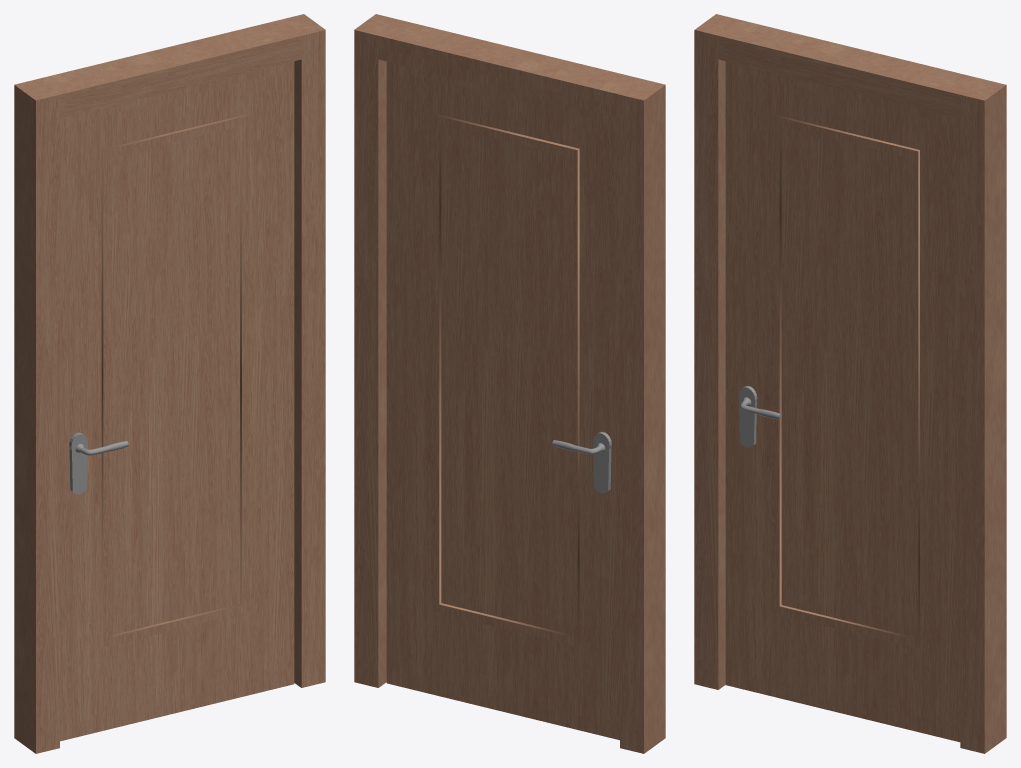
File: Door.FBX
3 views of the same model, side by side, from view 1: azimuth 30°, elevation 25°; view 2: azimuth 150°, elevation 25°; view 3: azimuth 330°, elevation 25° (orthographic).
Visible parts, largest first — view 1: Door, door frame; view 2: Door, door frame; view 3: Door, door frame.
Boxes of the visible parts, <box> form: Door: <box>60,61,294,741</box>; door frame: <box>14,14,325,753</box>; Door: <box>386,61,619,740</box>; door frame: <box>354,14,665,753</box>; Door: <box>725,61,960,742</box>; door frame: <box>694,14,1006,753</box>.
Size of the model in its own units: 38.02 by 6.62 by 81.89.
Materials: 2 (1 with a texture image).
